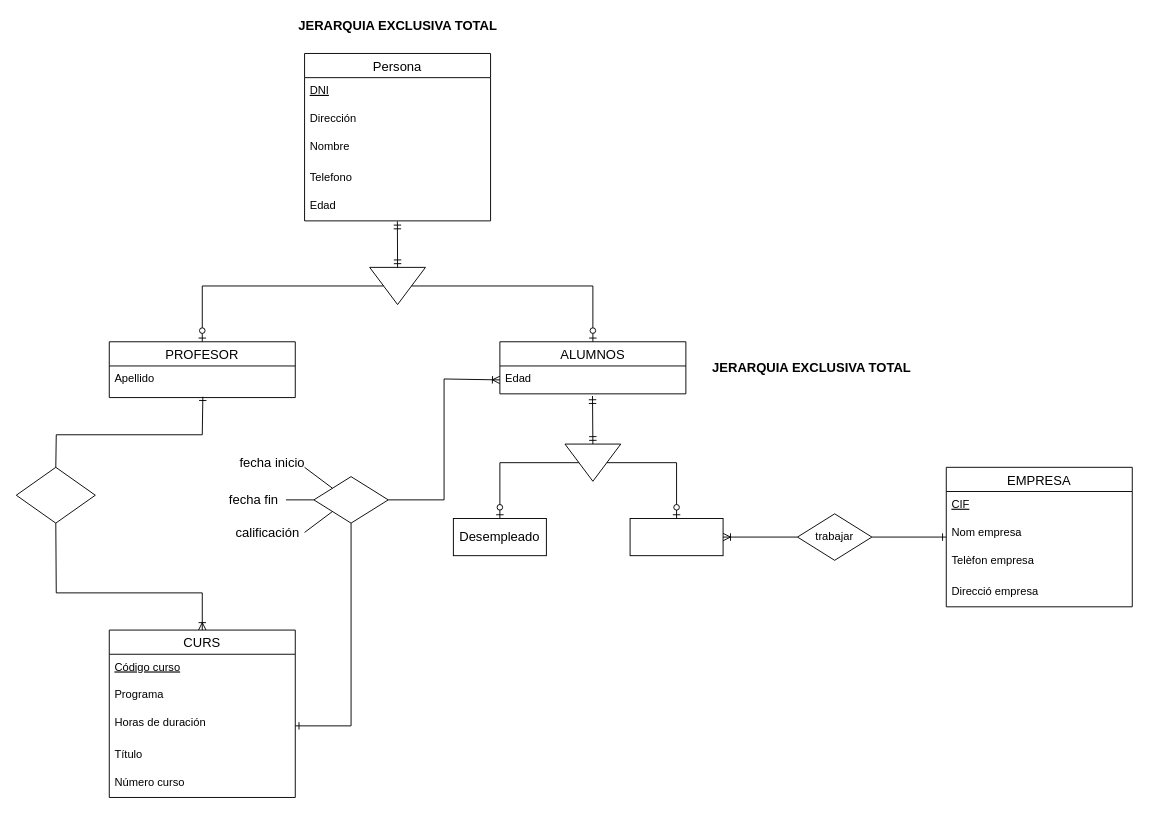
Some shapes in this 1149 by 816 pixel diagram are drawn without their labels. The centre of each missing label's shape, as x and y in pixels:
"cursar" belongs at point 350,499.
"impartir" belongs at point 55,494.
"Trabajador" belongs at point 676,537.
